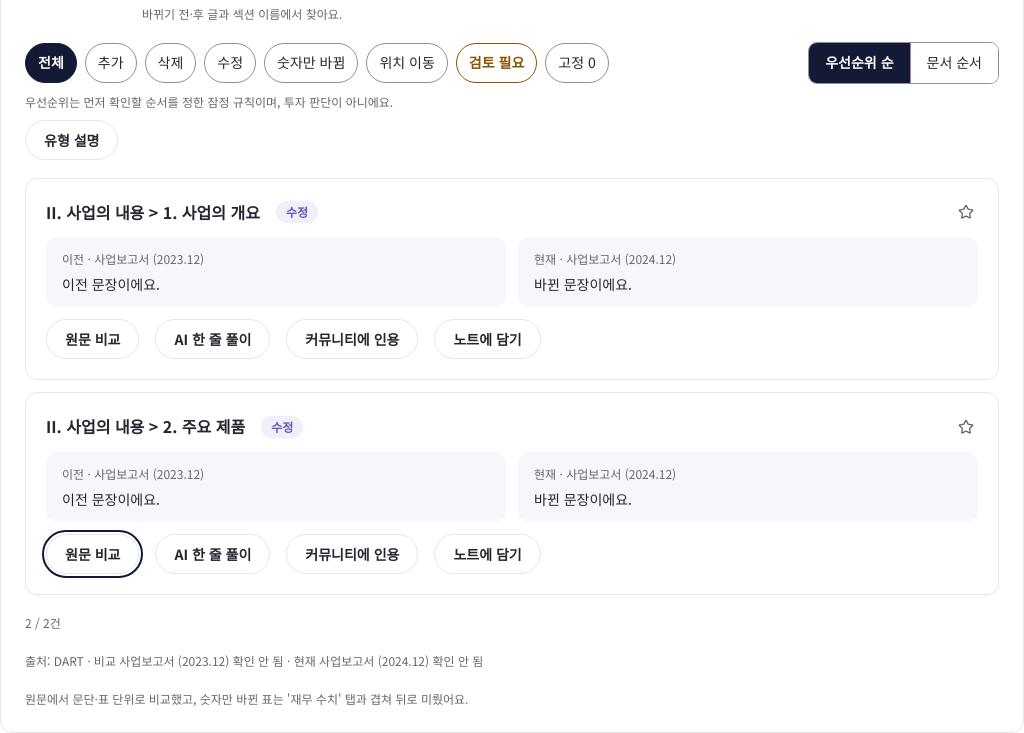
TextTab 원문 비교(#507) › 카드에서 열면 창이 뜨고, Esc로 닫으면 창이 사라지고 그 카드의 원문 비교로 초점이 돌아온다
(page scrolled)
Click the button "원문 비교" below "II. 사업의 내용 > 2. 주요 제품" at (93, 554), box [46,534,140,574]
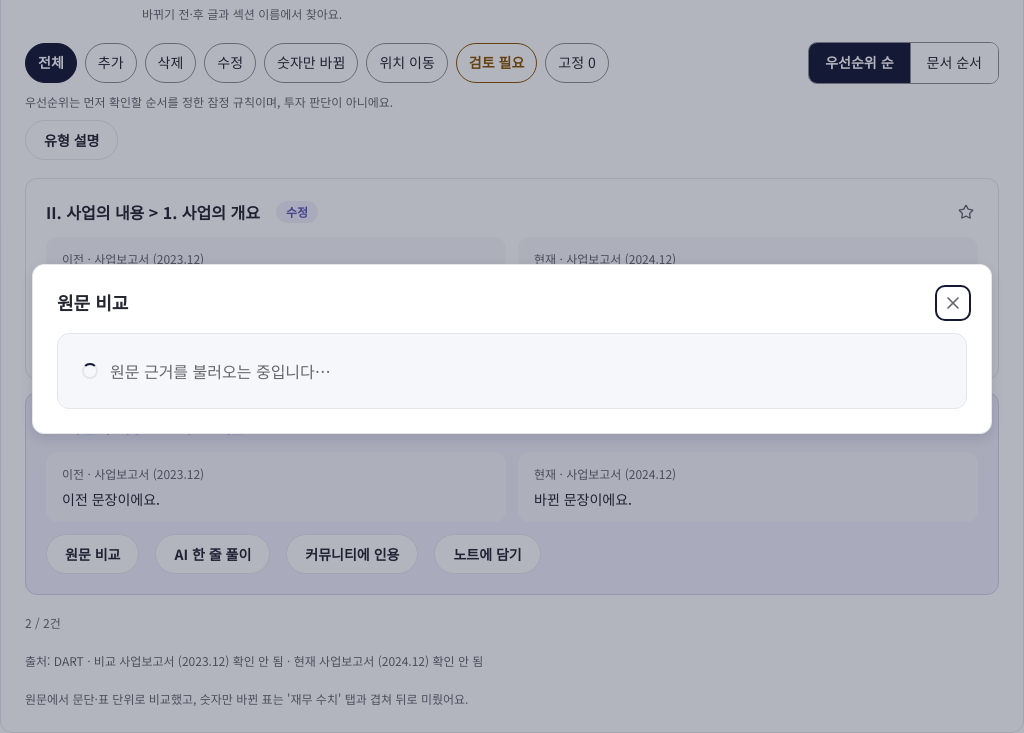
Press Escape in the dialog "원문 비교", box [32,264,992,434]
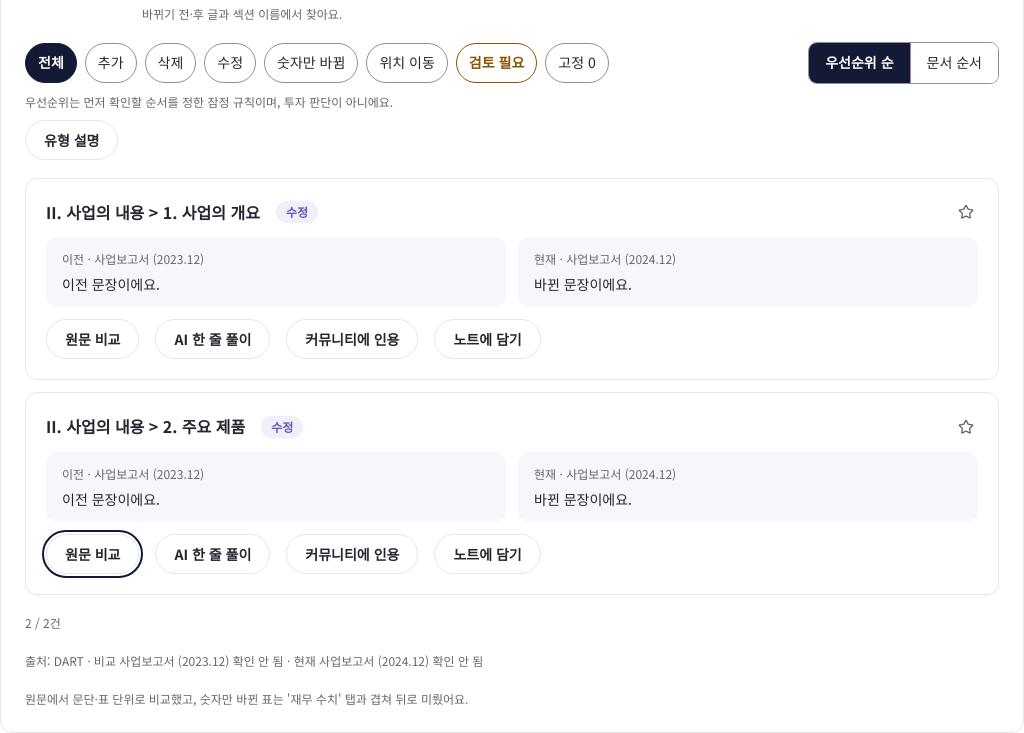
Result: the dialog is gone
